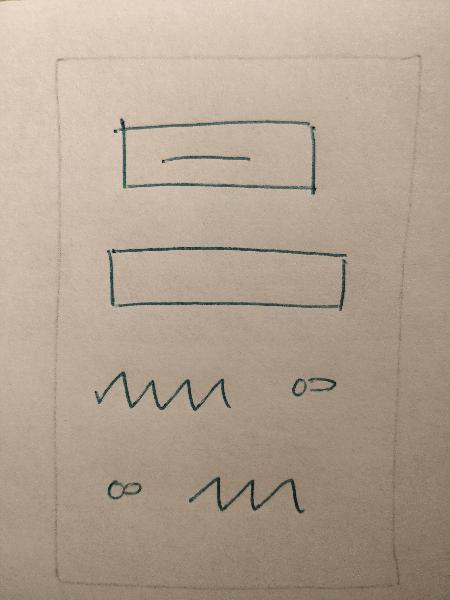button: (103, 110, 335, 201)
switch: (96, 468, 159, 513), (281, 364, 346, 405)
text: (86, 363, 241, 424), (182, 463, 316, 518)
text_input: (87, 240, 361, 334)
